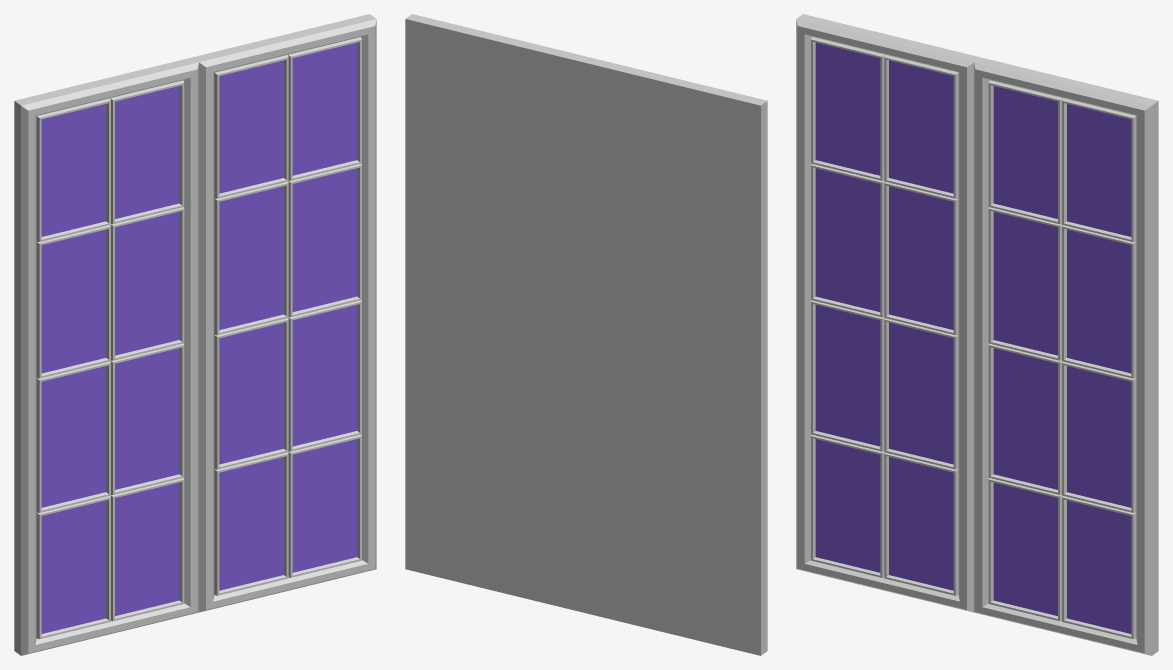
File: SP_House13_Window04.fbx
The picture shows the model from 3 angles, left to right: view 1: azimuth 30°, elevation 25°; view 2: azimuth 150°, elevation 25°; view 3: azimuth 330°, elevation 25°; orthographic projection.
Parts seen in each view (by area): view 1: SP_House13_Window04; view 2: SP_House13_Window04; view 3: SP_House13_Window04.
Boxes of the visible parts, x1=… form: SP_House13_Window04: x1=14, y1=14, x2=376, y2=655; SP_House13_Window04: x1=405, y1=14, x2=767, y2=655; SP_House13_Window04: x1=796, y1=14, x2=1158, y2=655.
Size of the model in its own units: 1.47 by 2.17 by 0.0697.
